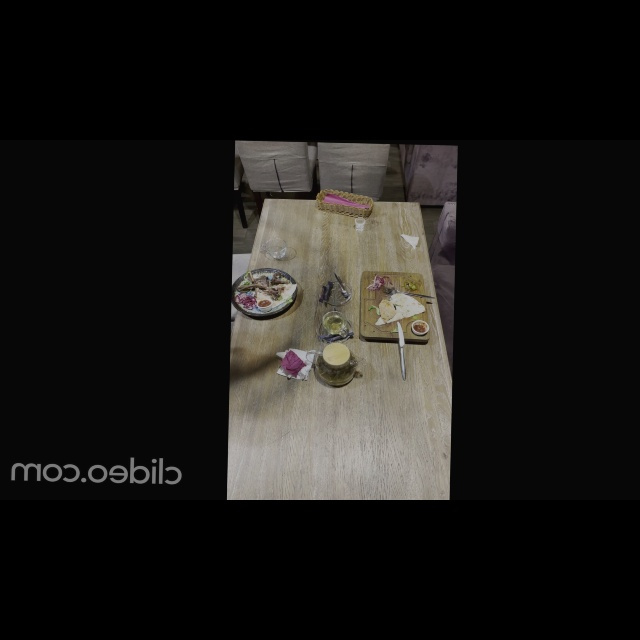графин с чаем: (306, 342, 366, 388)
закуска(пустая тарелка): (359, 271, 431, 342)
мясо(пустая тарелка): (230, 267, 298, 318)
